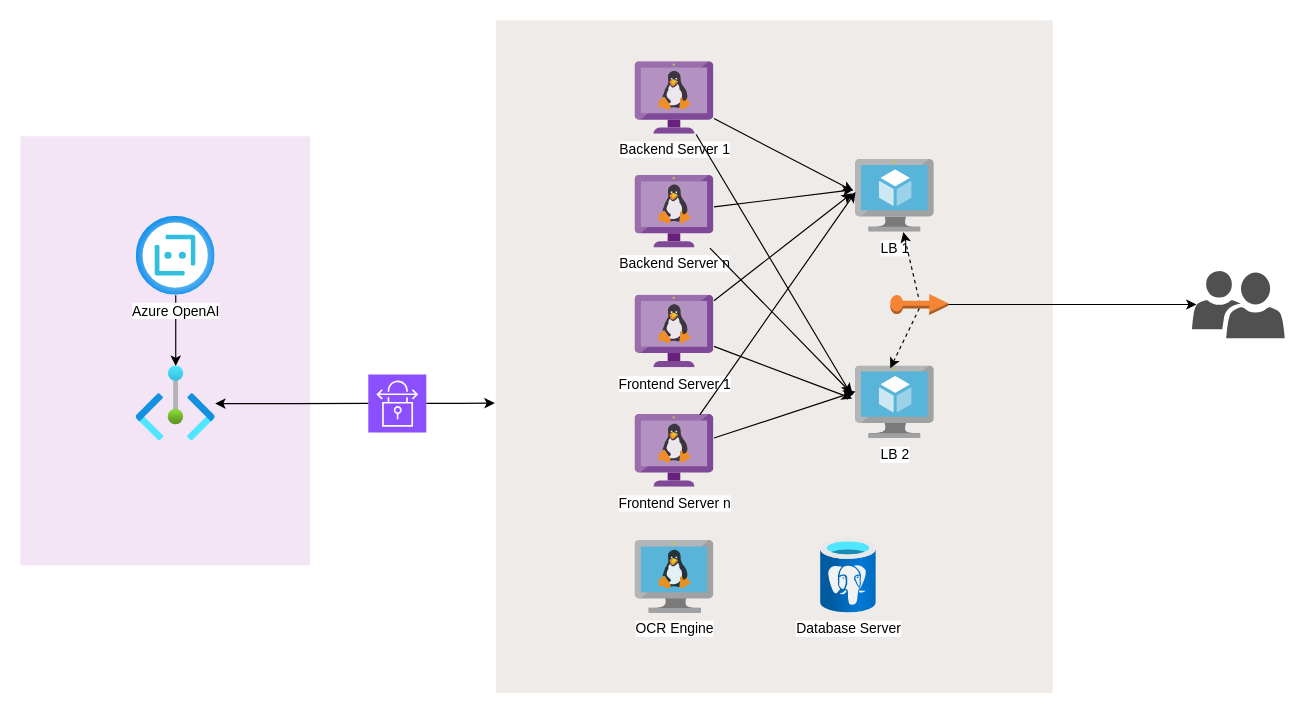
Some shapes in this 1304 by 712 pixel diagram are drawn without their labels. The shapes that lost their labels are listed below. From the top down, each one's box as (x1, y1, x2, y2) in pixels, then its label:
(20, 136, 310, 565): Cloud
(495, 20, 1052, 693): On Premise
(367, 373, 426, 432): Site to Site VPN
